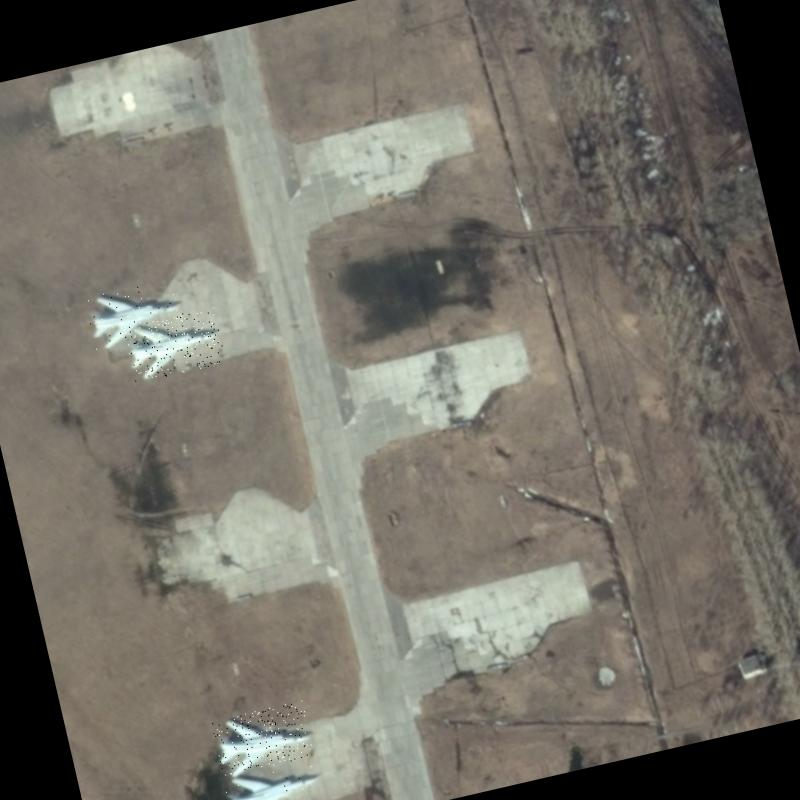A12: (210, 699, 316, 780), (84, 275, 189, 352), (122, 306, 226, 383), (221, 755, 329, 800)
